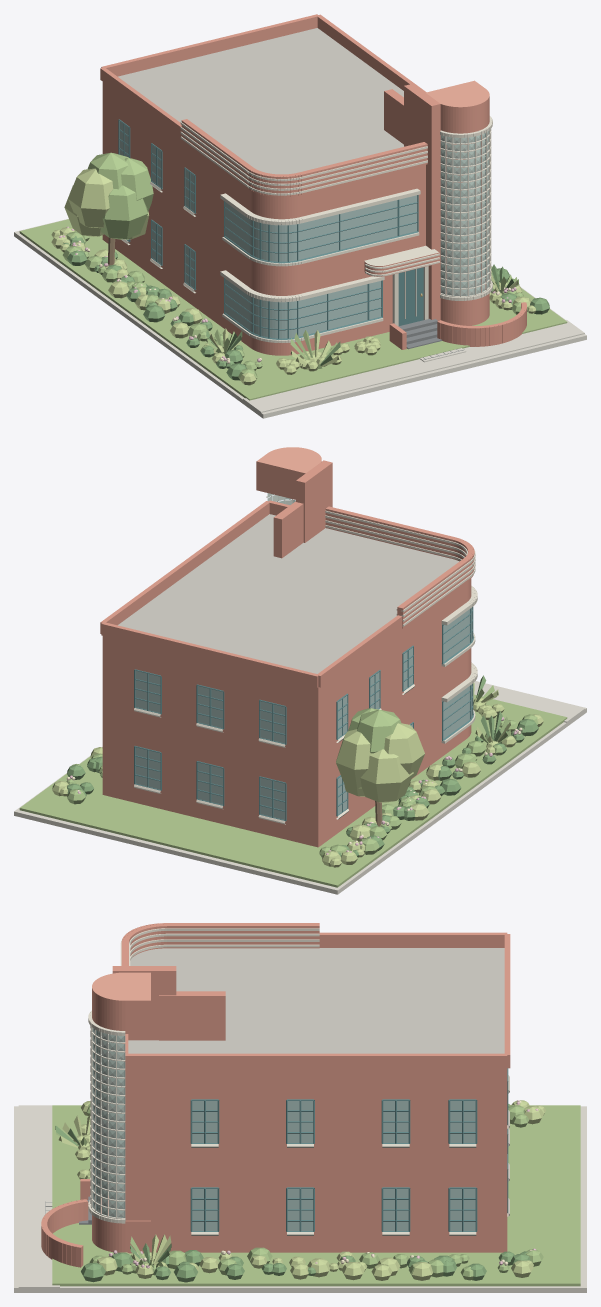
File: art-deco-house.glb
The picture shows the model from 3 angles, top to bottom: view 1: azimuth 30°, elevation 25°; view 2: azimuth 150°, elevation 25°; view 3: azimuth 270°, elevation 25°; orthographic projection. The views are drawn at different scales.
Visible parts, largest first — view 1: coral, roof, cream, glass, grass, paving, leaflight, teal, leaf, blockglass, leafdark, blocklight (+2 smaller); view 2: coral, roof, grass, leaflight, glass, paving, teal, cream, leaf, leafdark, corallight; view 3: coral, roof, grass, paving, glass, cream, leaflight, teal, leafdark, leaf, blockglass, blocklight (+2 smaller).
Boxes of the visible parts, left/top/right/bottom form: coral: left=100, top=14, right=526, bottom=355; roof: left=118, top=28, right=449, bottom=174; cream: left=121, top=116, right=492, bottom=342; glass: left=119, top=121, right=417, bottom=338; grass: left=19, top=219, right=567, bottom=400; paving: left=14, top=218, right=586, bottom=418; leaflight: left=51, top=168, right=535, bottom=385; teal: left=118, top=119, right=423, bottom=339; leaf: left=62, top=152, right=527, bottom=380; blockglass: left=440, top=131, right=488, bottom=292; leafdark: left=63, top=234, right=549, bottom=380; blocklight: left=440, top=131, right=488, bottom=295; coral: left=100, top=460, right=474, bottom=847; roof: left=118, top=514, right=459, bottom=673; grass: left=19, top=694, right=567, bottom=887; leaflight: left=52, top=683, right=543, bottom=867; glass: left=135, top=607, right=472, bottom=819; paving: left=14, top=681, right=586, bottom=894; teal: left=134, top=607, right=473, bottom=821; cream: left=134, top=494, right=477, bottom=824; leaf: left=66, top=685, right=538, bottom=857; leafdark: left=67, top=675, right=538, bottom=857; corallight: left=256, top=447, right=321, bottom=473; coral: left=41, top=923, right=510, bottom=1267; roof: left=128, top=948, right=504, bottom=1053; grass: left=52, top=1105, right=580, bottom=1286; paving: left=14, top=1105, right=586, bottom=1292; glass: left=192, top=1101, right=475, bottom=1230; cream: left=88, top=928, right=509, bottom=1235; leaflight: left=58, top=1100, right=545, bottom=1280; teal: left=190, top=1068, right=508, bottom=1231; leafdark: left=55, top=1104, right=530, bottom=1282; leaf: left=56, top=1104, right=543, bottom=1280; blockglass: left=93, top=1028, right=124, bottom=1216; blocklight: left=93, top=1031, right=124, bottom=1217.
Bounding box in the file's own units: 13.93 × 9.15 × 18.
